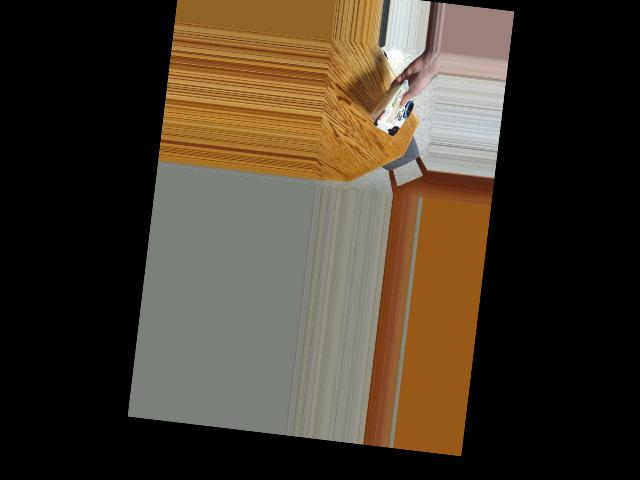cheese: (363, 84, 422, 136)
